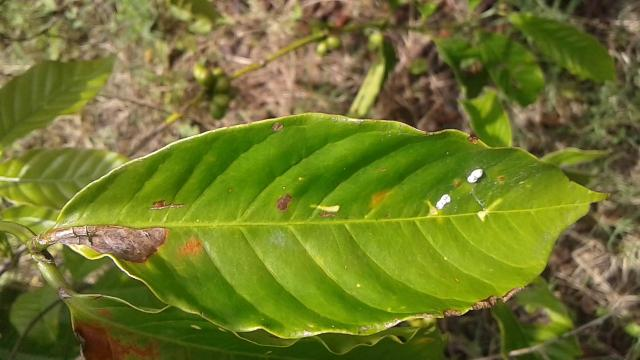rust_level_1: (51, 113, 612, 337)
